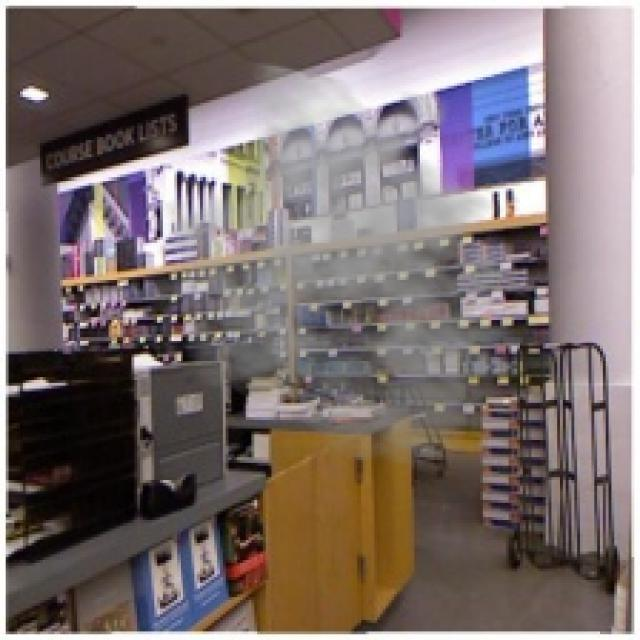Smoke: (140, 60, 560, 469)
